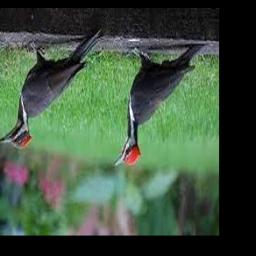Woodpecker: (0, 30, 103, 150), (113, 45, 205, 167)
